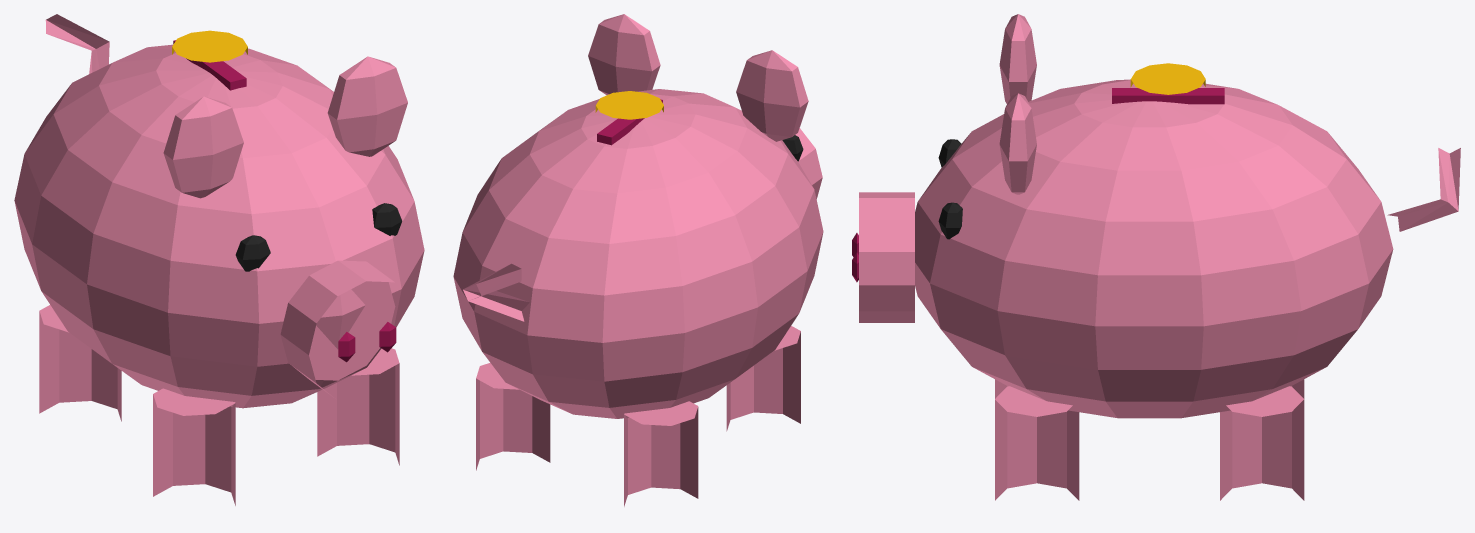
File: spargris.glb
The picture shows the model from 3 angles, left to right: view 1: azimuth 30°, elevation 25°; view 2: azimuth 150°, elevation 25°; view 3: azimuth 270°, elevation 25°; orthographic projection. The views are drawn at different scales.
Visible parts, largest first — view 1: spargris; view 2: spargris; view 3: spargris.
Part boxes in pixels (left/top/right/bottom): spargris: left=14, top=14, right=424, bottom=505; spargris: left=453, top=14, right=823, bottom=506; spargris: left=852, top=14, right=1460, bottom=500.
Bounding box in the file's own units: 0.3899 × 0.48 × 0.6492.
